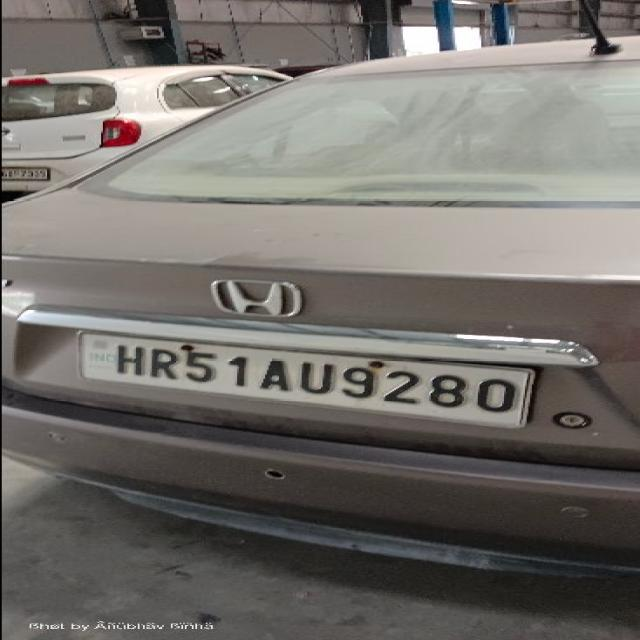license_plate: (75, 329, 539, 429)
